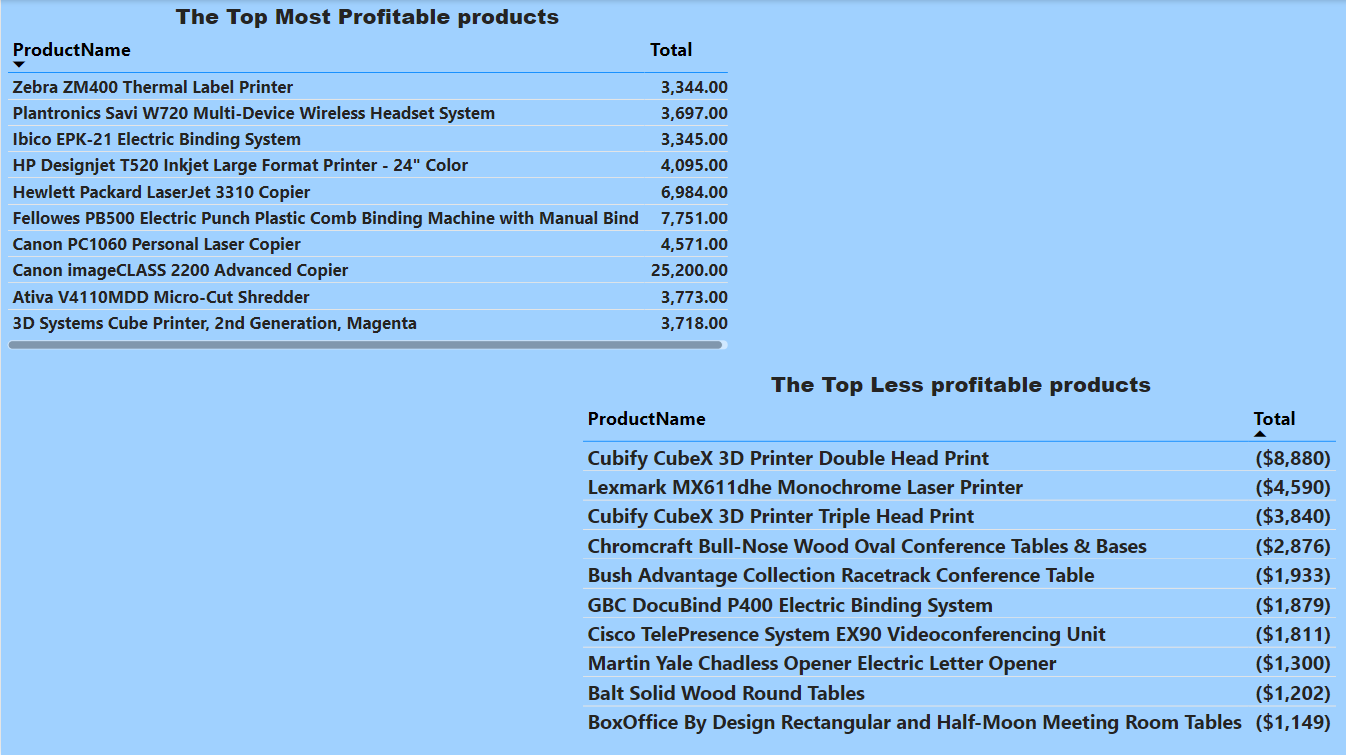

The page's visual inventory and layout, read from the dashboard file:
{"tool":"powerbi","page":{"name":"Page 3","canvas":[1280,720],"ordinal":2},"visuals":[{"type":"tableEx","title":"The Top Most Profitable products","fields":{"Values":["faizi_csv2 (2).ProductName","Sum(faizi_csv2 (2).total)"]},"box":[0,0,697.4,338],"z":0},{"type":"tableEx","title":"The Top Less profitable products","fields":{"Values":["faizi_csv2.ProductName","Sum(faizi_csv2.Profit)"]},"box":[547.6,351.6,732.9,367.8],"z":1}]}

Visuals, with their boxes in screenshot pixels (x1, y1, x2, y2), scaled from the page's 1280x720 canvas onto the 1346x755 screenshot:
"The Top Most Profitable products" tableEx: [0, 0, 733, 354]
"The Top Less profitable products" tableEx: [576, 369, 1345, 754]
